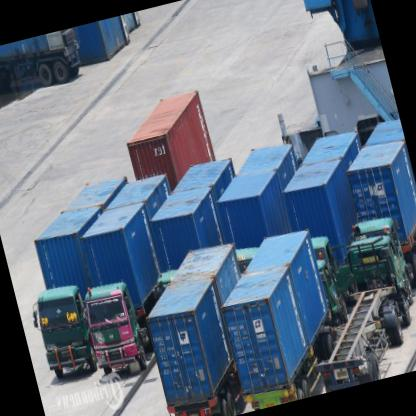truck: (80, 281, 151, 386), (32, 283, 101, 385)
